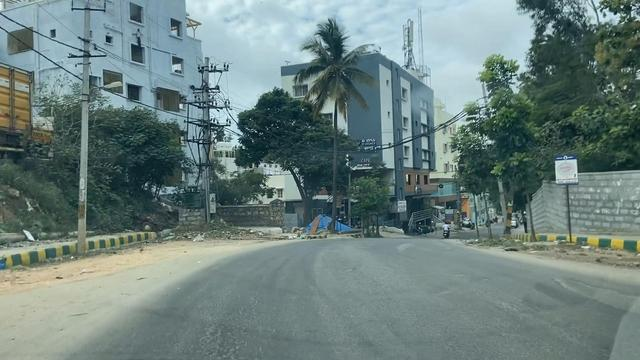RoadDamages: (529, 249, 640, 341)
